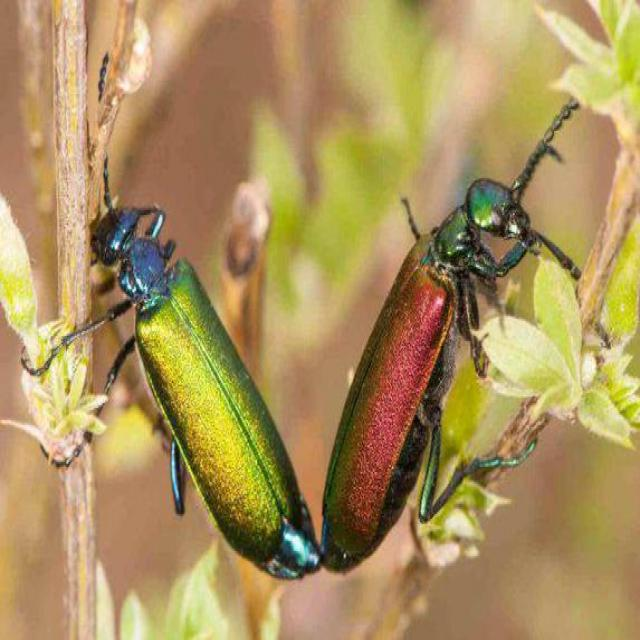BlisterBeetle-Adult-: (20, 48, 322, 584), (320, 93, 585, 584)
